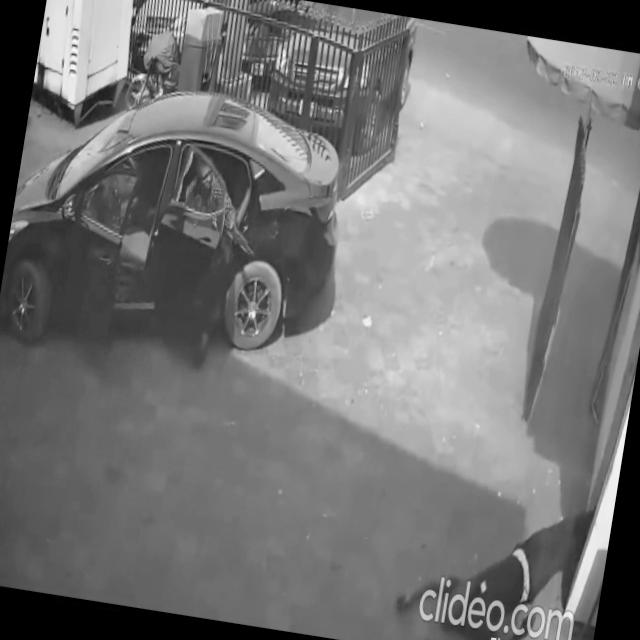gun: (206, 200, 264, 266)
person: (386, 469, 604, 640)
person with a gun: (158, 149, 250, 374)
